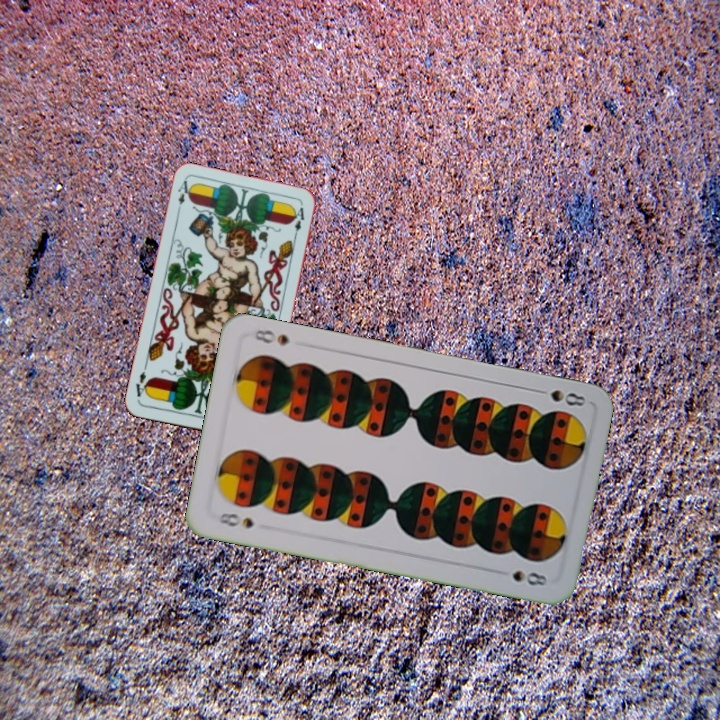EA: (173, 176, 193, 216)
S8: (546, 385, 588, 409), (214, 508, 256, 531)
